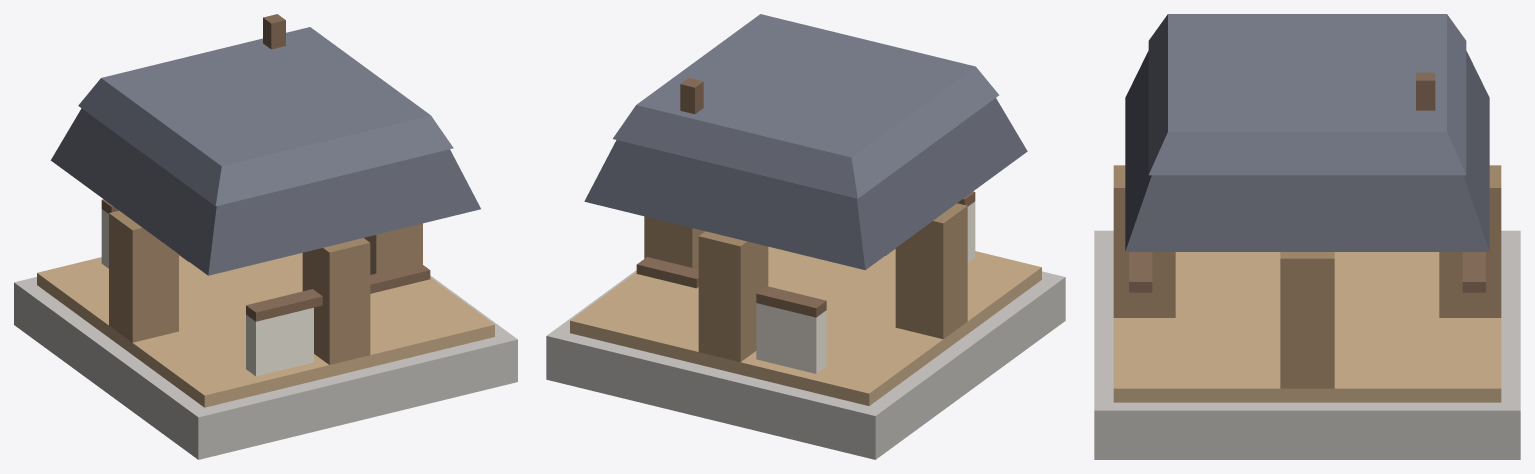
The model's file is station_驿楼.glb.
3 renders of one model, left to right at view 1: azimuth 30°, elevation 25°; view 2: azimuth 150°, elevation 25°; view 3: azimuth 270°, elevation 25°, orthographic. The views are drawn at different scales.
Parts seen in each view (by area): view 1: 驿楼; view 2: 驿楼; view 3: 驿楼.
Boxes of the visible parts, left/top/right/bottom form: 驿楼: left=14, top=14, right=517, bottom=459; 驿楼: left=546, top=14, right=1065, bottom=459; 驿楼: left=1094, top=14, right=1520, bottom=459.
Size of the model in its own units: 1.1 by 0.93 by 1.1.
